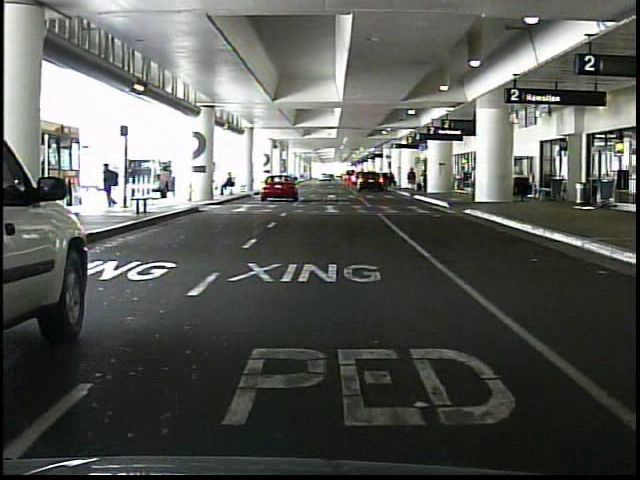person: (104, 162, 122, 208), (221, 173, 239, 197), (408, 165, 419, 193)
